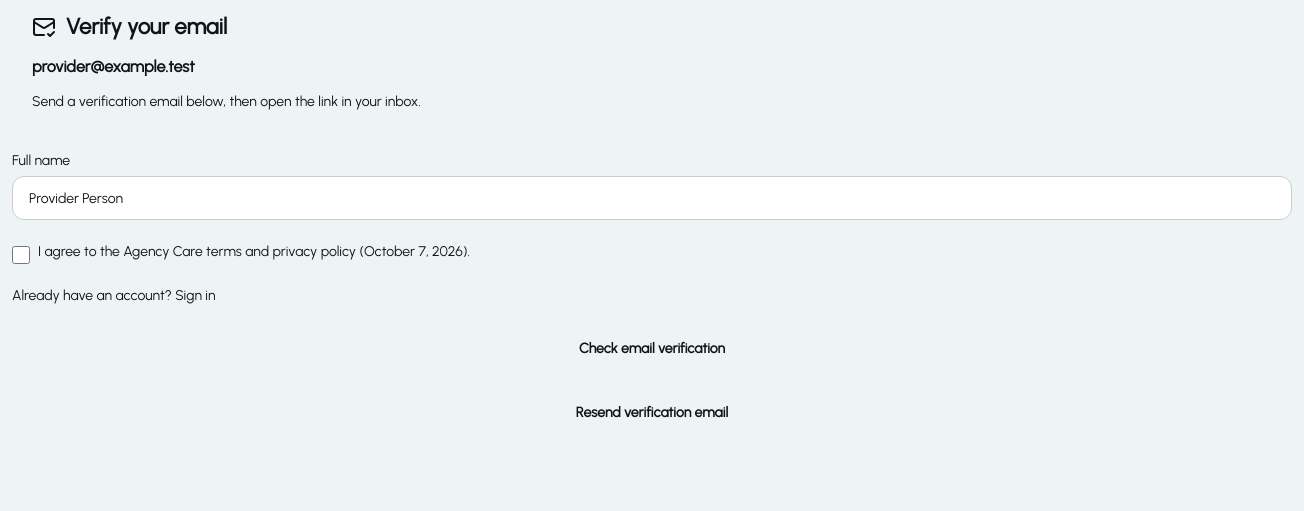
Scenario: invitation-bound registration › shows the actionable custom sender error on resend
Click the button "Resend verification email". click: (652, 413)
box: [12,392,1292,434]
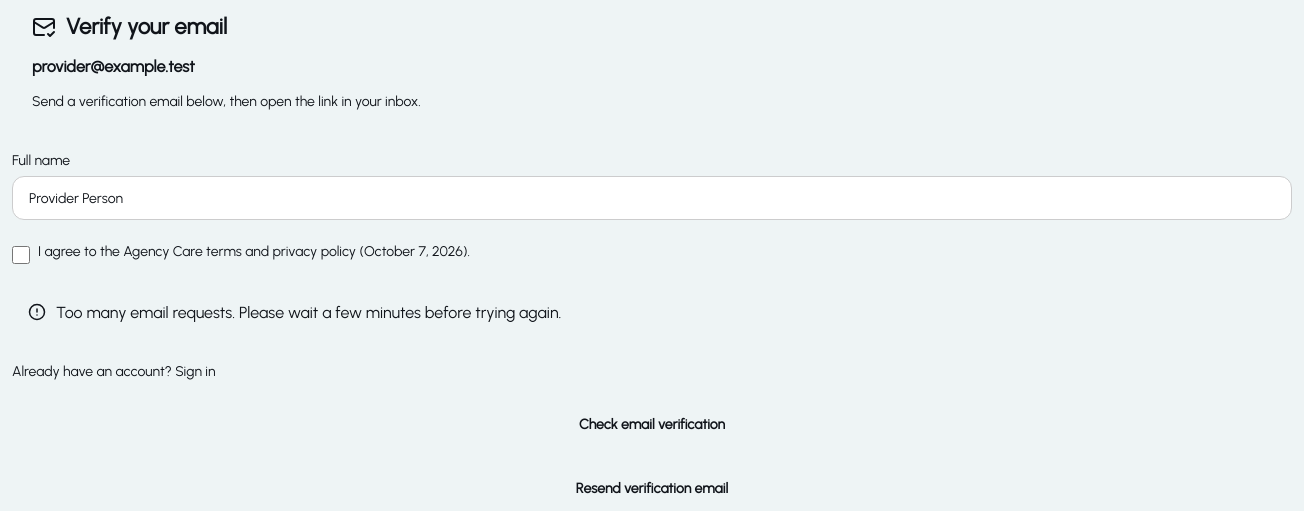
Expected: the message shows "Too many email requests", [56,303,561,322]
